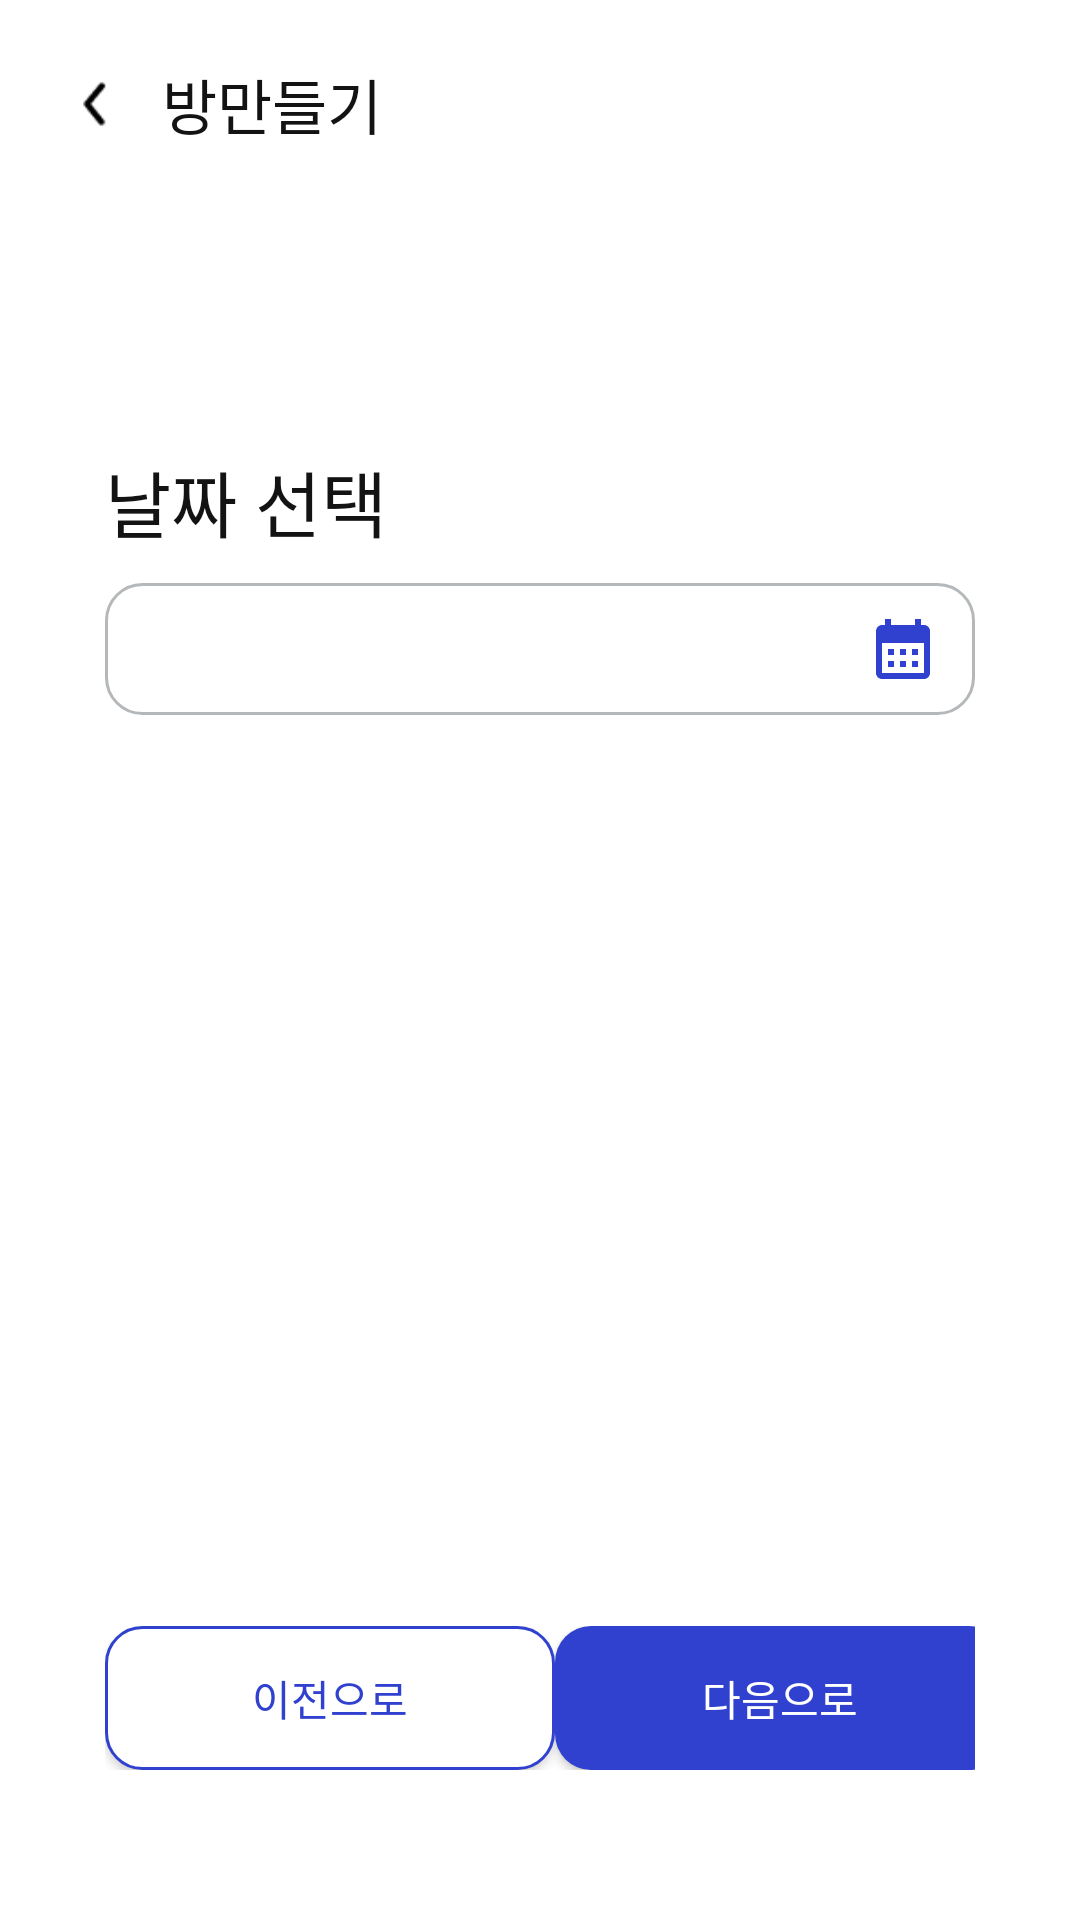

Screen size 1080px×1920px. Icon name, then its center in pixels as point (x, y):
arrow: point (94, 104)
calender: point (903, 649)
